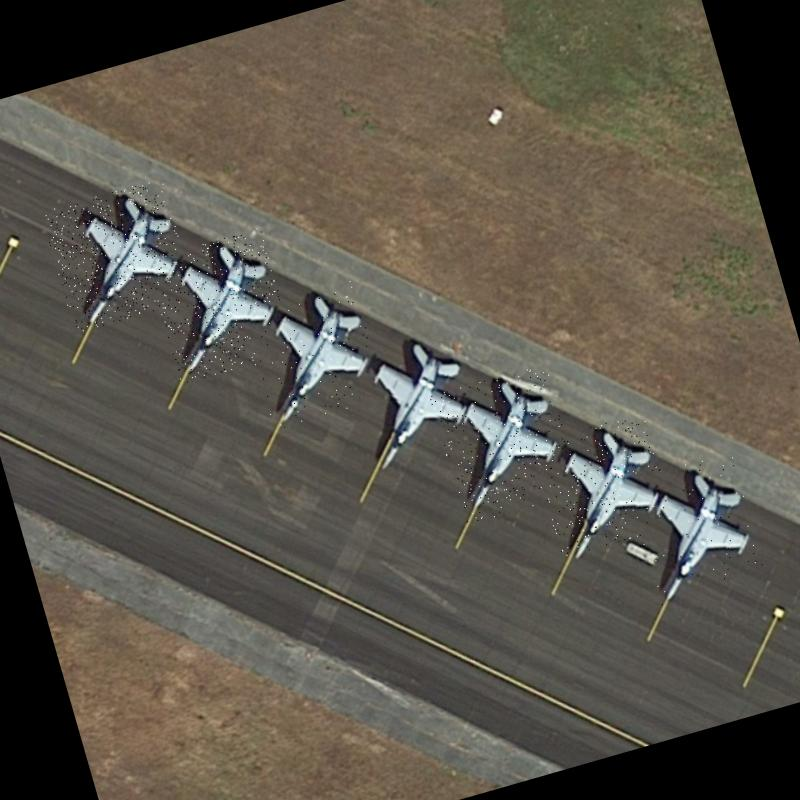A16: (429, 362, 582, 524), (40, 177, 196, 333), (146, 227, 296, 384), (341, 322, 486, 478), (239, 279, 388, 430), (625, 451, 767, 608), (529, 410, 676, 558)
